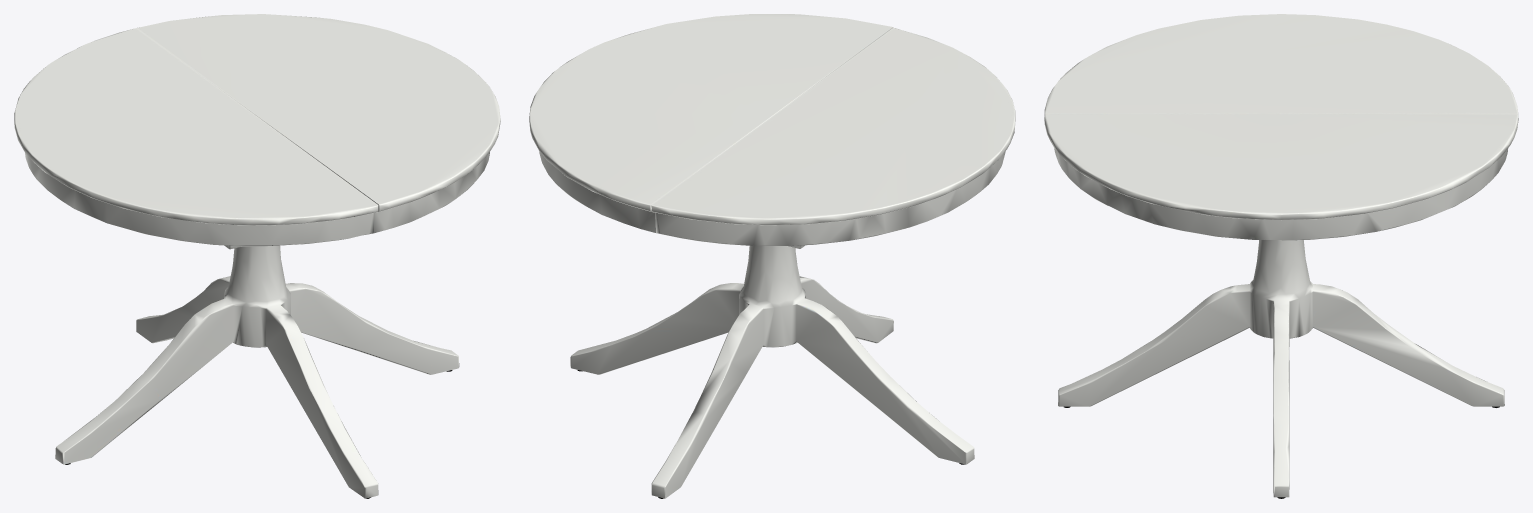
File: rosentorp_sto_rozkadany_80568239.glb
3 views of the same model, side by side, from view 1: azimuth 30°, elevation 25°; view 2: azimuth 150°, elevation 25°; view 3: azimuth 270°, elevation 25° (orthographic). The views are drawn at different scales.
Parts seen in each view (by area): view 1: rosentorp_sto_rozkadany_80568239; view 2: rosentorp_sto_rozkadany_80568239; view 3: rosentorp_sto_rozkadany_80568239.
Part boxes in pixels (box(x1,y1,x2,y2)): rosentorp_sto_rozkadany_80568239: box(14, 14, 500, 498); rosentorp_sto_rozkadany_80568239: box(529, 14, 1015, 498); rosentorp_sto_rozkadany_80568239: box(1044, 14, 1518, 498).
Size of the model in its own units: 1.1 by 0.7505 by 1.1.
Materials: 7 (7 with a texture image).
